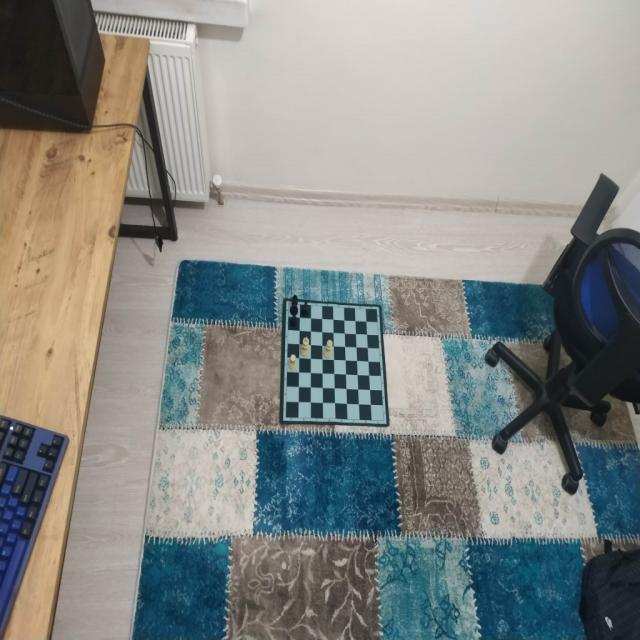chess-table-corners: (282, 412, 290, 423), (284, 299, 292, 308), (372, 306, 380, 313), (381, 416, 386, 424)
